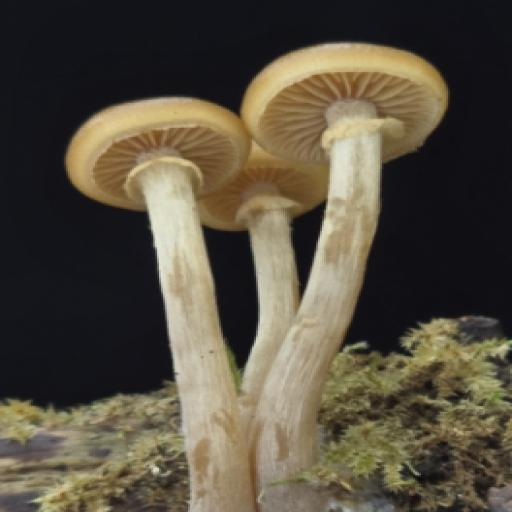mushroom: (44, 29, 472, 328)
